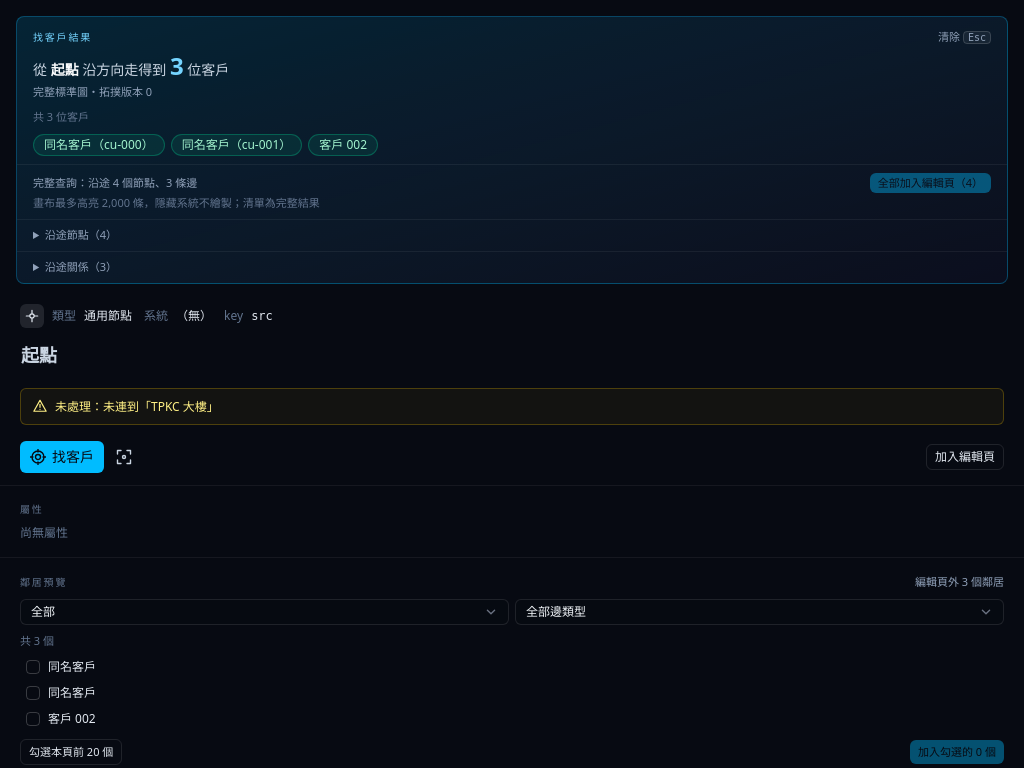
Scenario: DetailPanel P7：完整清單分頁與追查 › 從追查點一條關係：單獨選取、追查保留；兩端加入受 200 預算限制，失敗什麼都不改
Click the heading "沿途關係（3）".
click(81, 266)  # box [45,259,117,274]
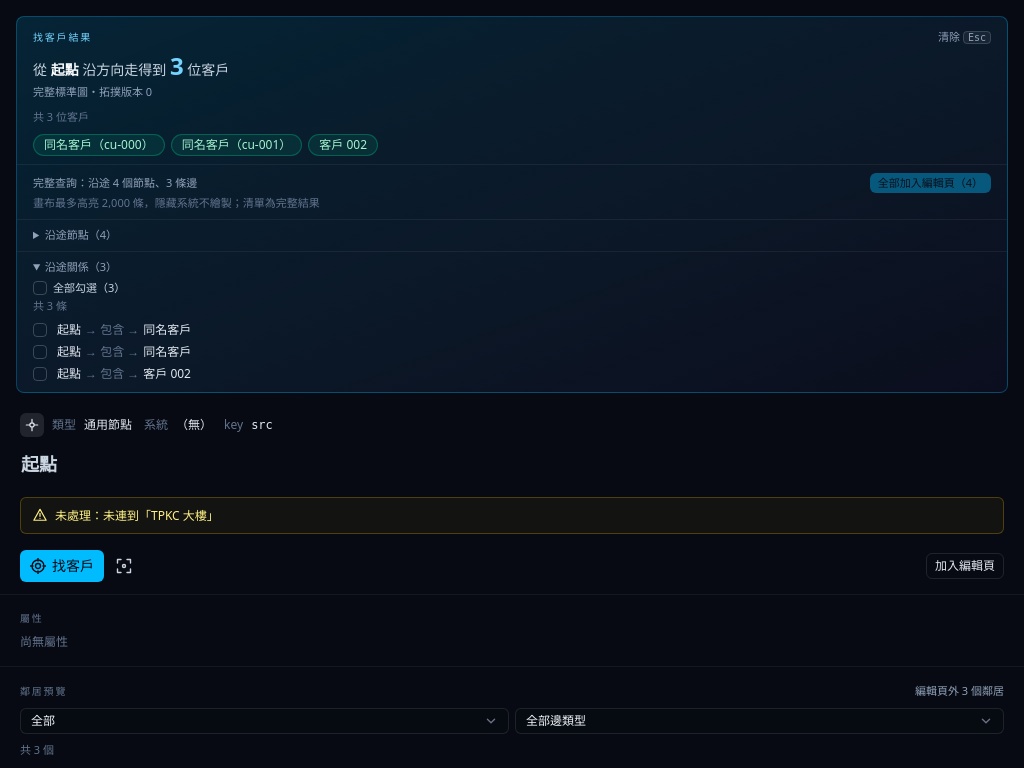
Click the 1st button "起點 → 包含 → 同名客戶".
click(112, 329)  # box [51,320,991,340]
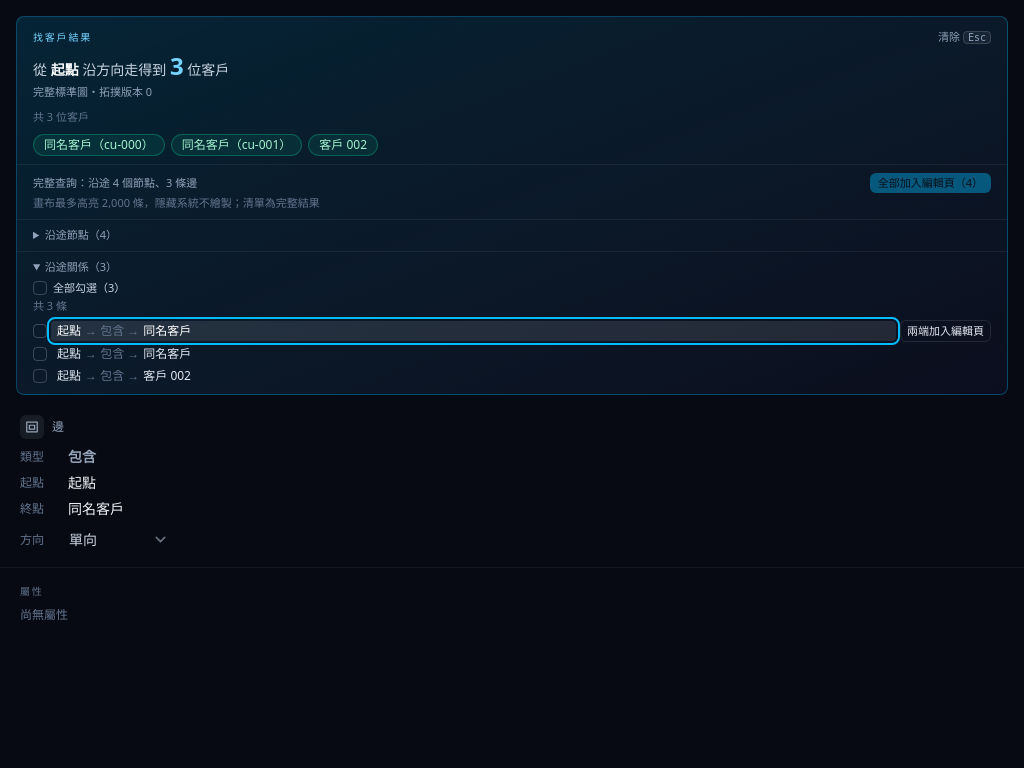
Expected: the element "找客戶結果" is shown, [16,16,1008,394]
Click the button "兩端加入編輯頁".
click(946, 331)  # box [900,320,991,342]
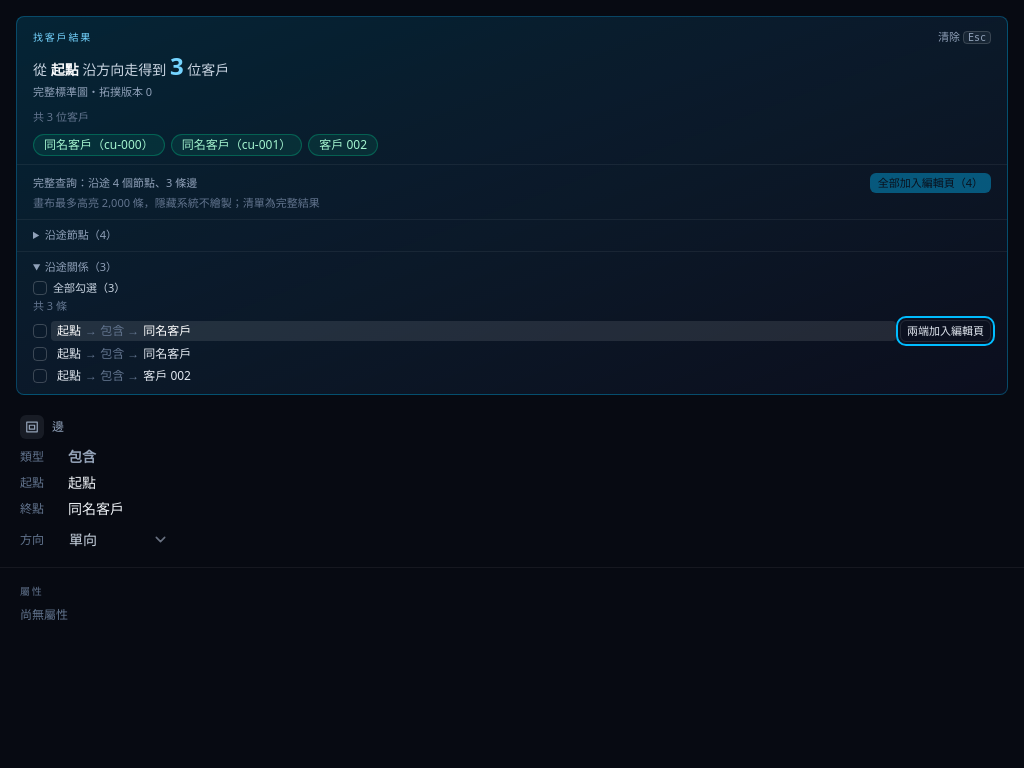
Expected: the element "找客戶結果" is shown, [16,16,1008,394]
Click the button "兩端加入編輯頁".
click(946, 331)  # box [900,320,991,342]
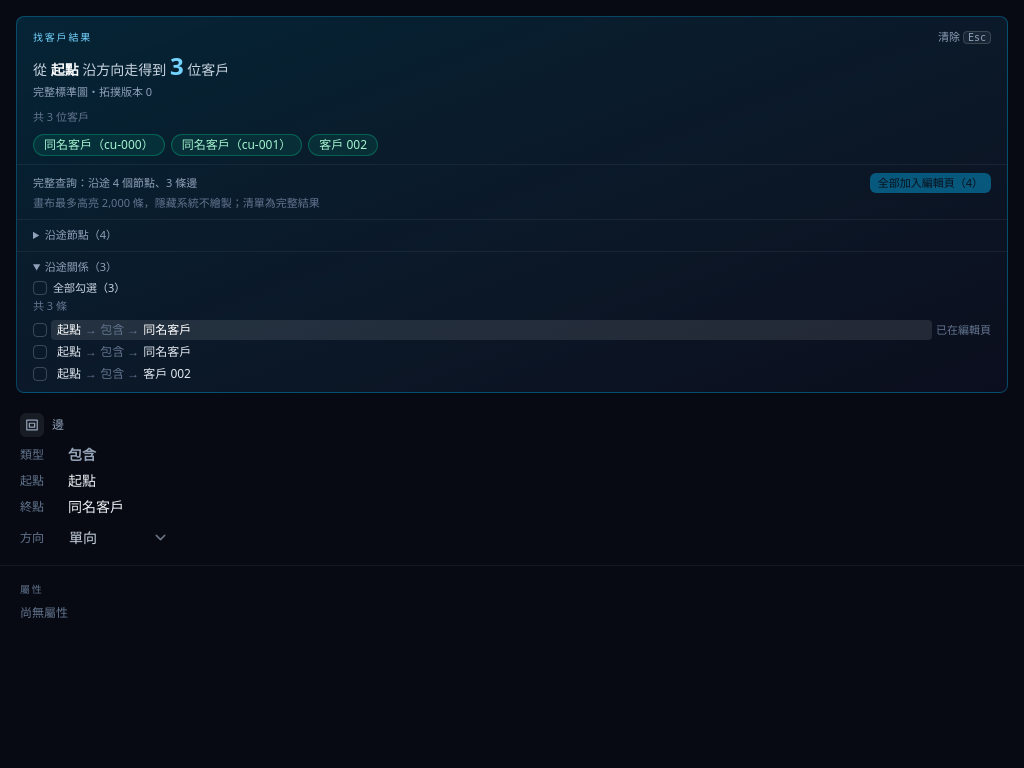
Now the text "已在編輯頁" is shown, box [936,322,991,337]
